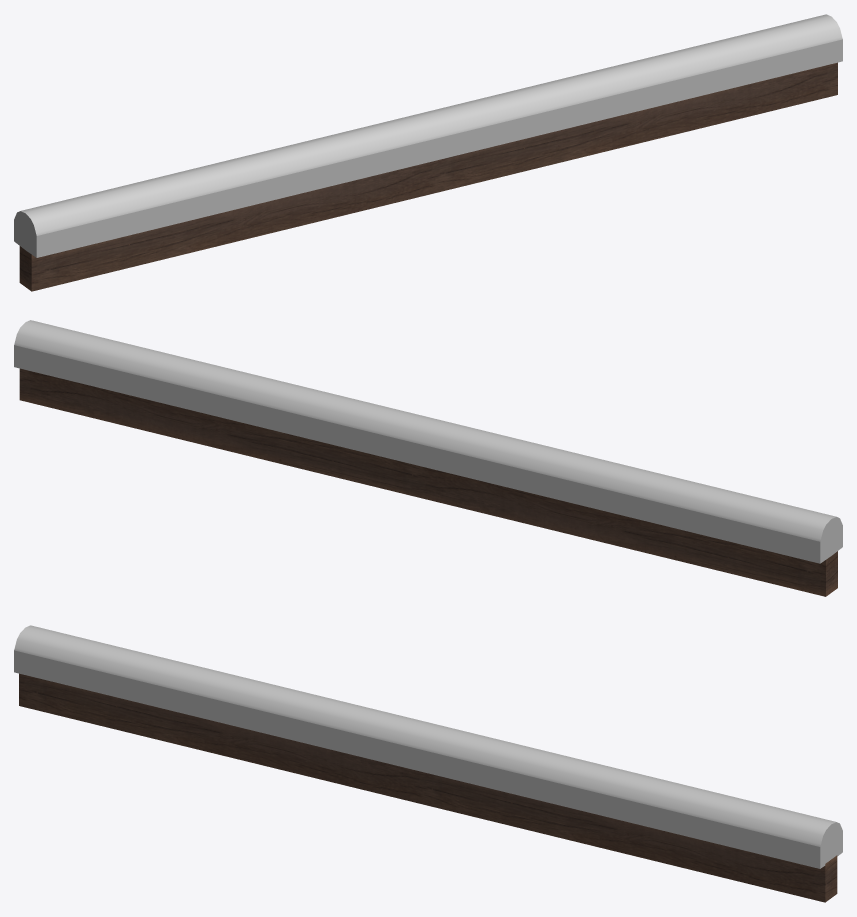
Rendered from onikawara_b1_2t.fbx.
3 views of the same model, one above another, from view 1: azimuth 30°, elevation 25°; view 2: azimuth 150°, elevation 25°; view 3: azimuth 330°, elevation 25° (orthographic).
Parts seen in each view (by area): view 1: onikawara_b1_2t; view 2: onikawara_b1_2t; view 3: onikawara_b1_2t.
Part boxes in pixels (<box>): onikawara_b1_2t: <box>14,14,842,291</box>; onikawara_b1_2t: <box>14,320,842,596</box>; onikawara_b1_2t: <box>14,625,842,902</box>.
Size of the model in its own units: 440 by 38.47 by 21.56.
